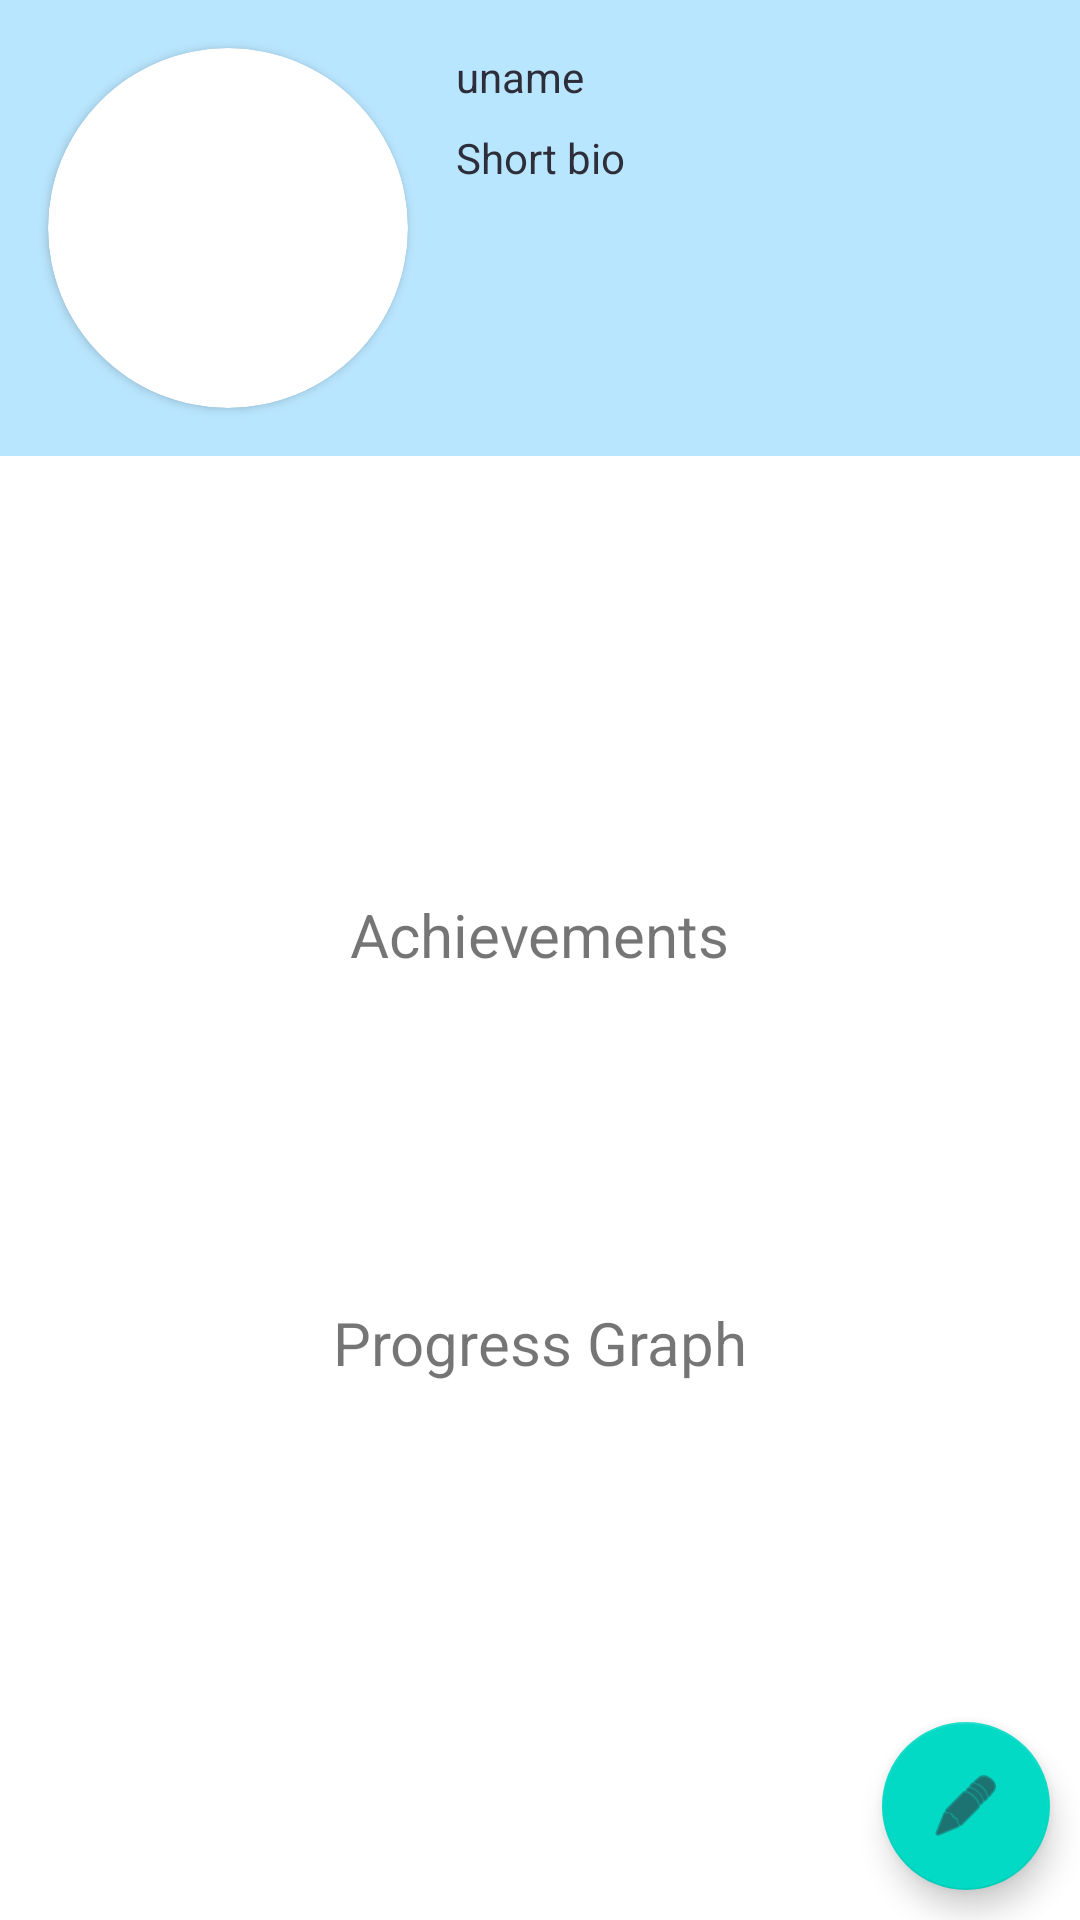

Locate icon controls on the screen. Image size 1080 × 1920, boxes as (x1, y1, x2, y2).
edit: (882, 1722, 1050, 1890)
